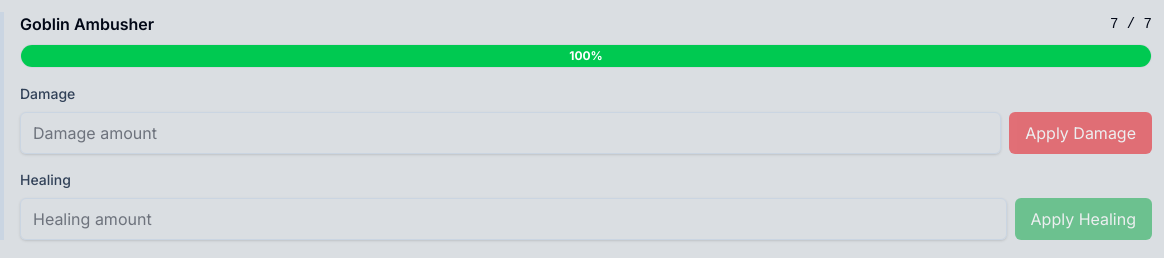
HPTracker Component › Damage Input Validation › should enable apply button when valid damage entered
Type "10" into the number field with placeholder "Damage amount" at (511,133), box [20,112,1001,154]
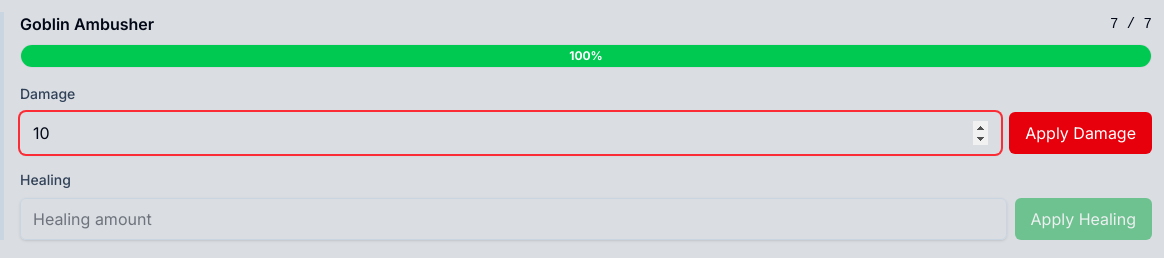
Now the button "Apply Damage" is enabled, box [1009,112,1152,154]
